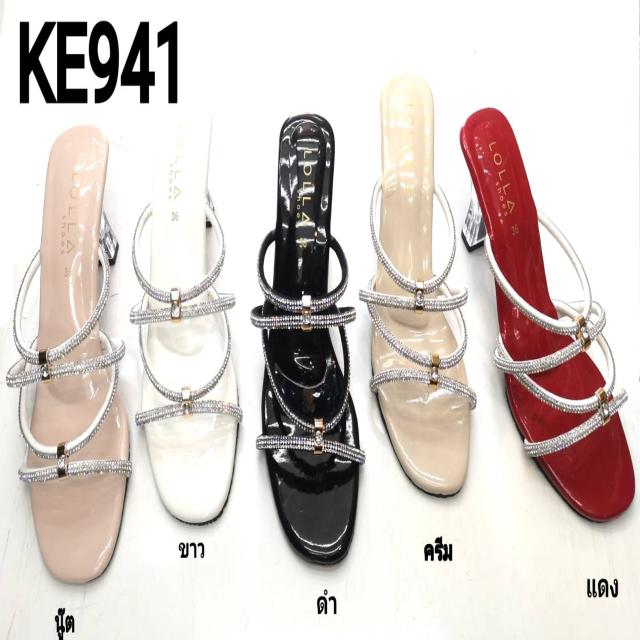black: (265, 113, 360, 558)
cream: (376, 76, 467, 499)
nood: (29, 122, 129, 584)
red: (460, 108, 634, 519)
white: (145, 102, 240, 526)
